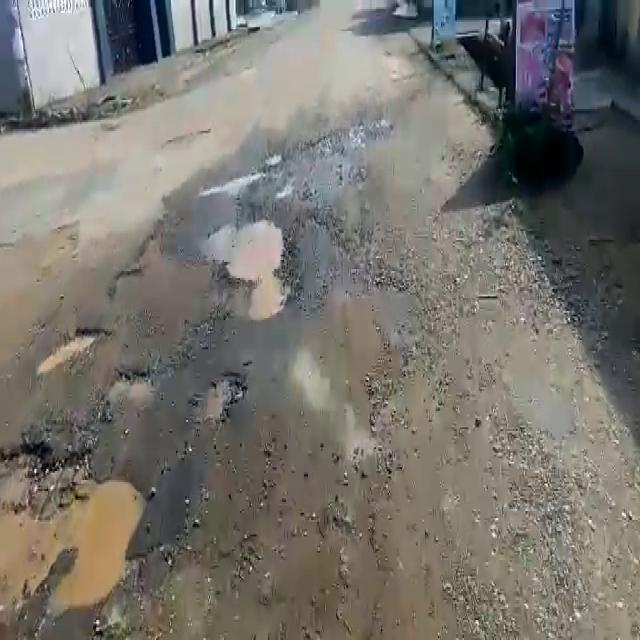Pothole: (0, 435, 152, 638), (209, 216, 291, 321), (38, 321, 110, 374), (204, 370, 247, 428)
